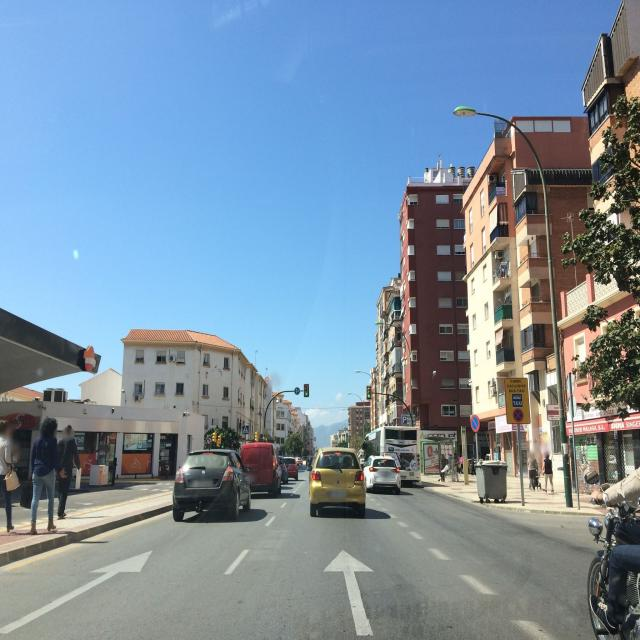forb_stopping: (470, 414, 479, 432)
forb_waiting: (513, 409, 523, 422)
